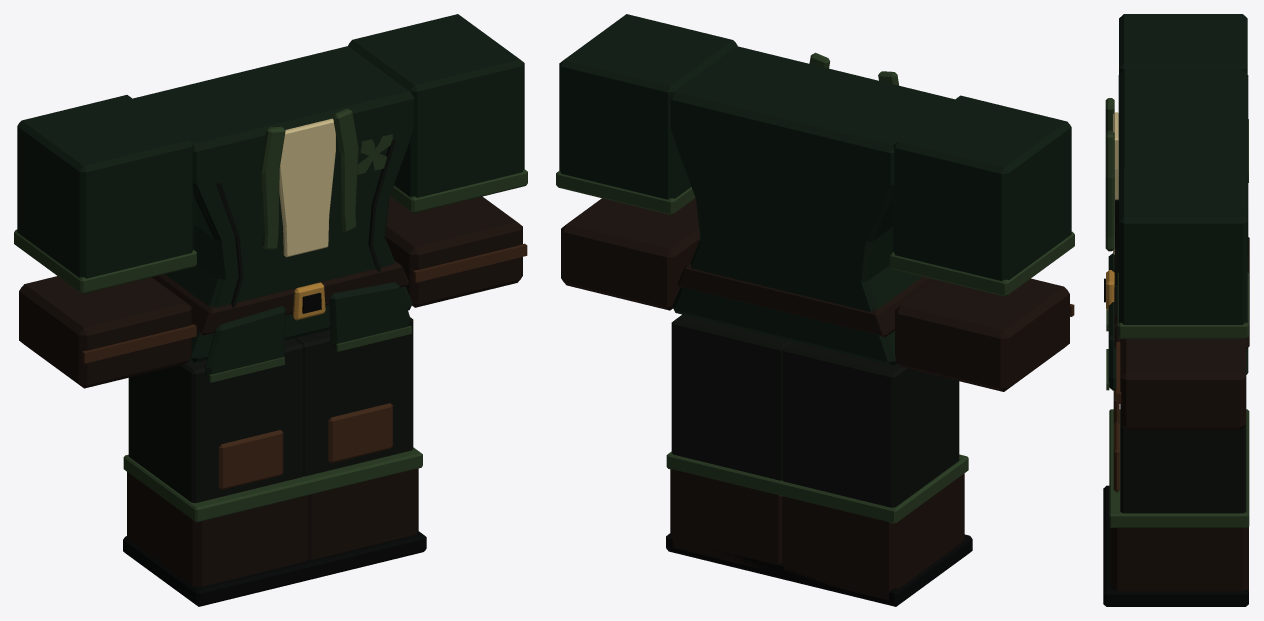
File: outfit-forest-initiate-female-v1.fbx
The picture shows the model from 3 angles, left to right: view 1: azimuth 30°, elevation 25°; view 2: azimuth 150°, elevation 25°; view 3: azimuth 270°, elevation 25°; orthographic projection. The views are drawn at different scales.
Parts seen in each view (by area): view 1: Torso.003, Left Arm.003, Left Leg.003, Right Arm.003, Right Leg.003; view 2: Torso.003, Left Arm.003, Left Leg.003, Right Arm.003, Right Leg.003; view 3: Right Arm.003, Right Leg.003, Torso.003, Left Arm.003, Left Leg.003.
Part boxes in pixels (box(x1,y1,x2,y2)): Torso.003: box(133, 46, 414, 382); Left Arm.003: box(14, 95, 196, 388); Left Leg.003: box(123, 338, 315, 606); Right Arm.003: box(348, 14, 527, 307); Right Leg.003: box(293, 317, 426, 579); Torso.003: box(670, 46, 954, 365); Left Arm.003: box(890, 95, 1074, 391); Left Leg.003: box(777, 341, 972, 606); Right Arm.003: box(556, 14, 737, 310); Right Leg.003: box(666, 314, 792, 579); Right Arm.003: box(1116, 168, 1248, 429); Right Leg.003: box(1103, 421, 1249, 606); Torso.003: box(1104, 70, 1249, 390); Left Arm.003: box(1119, 14, 1248, 182); Left Leg.003: box(1103, 389, 1249, 538).
Bounding box in the file's own units: 409 × 401 × 121.
Materials: 1 (1 with a texture image).
